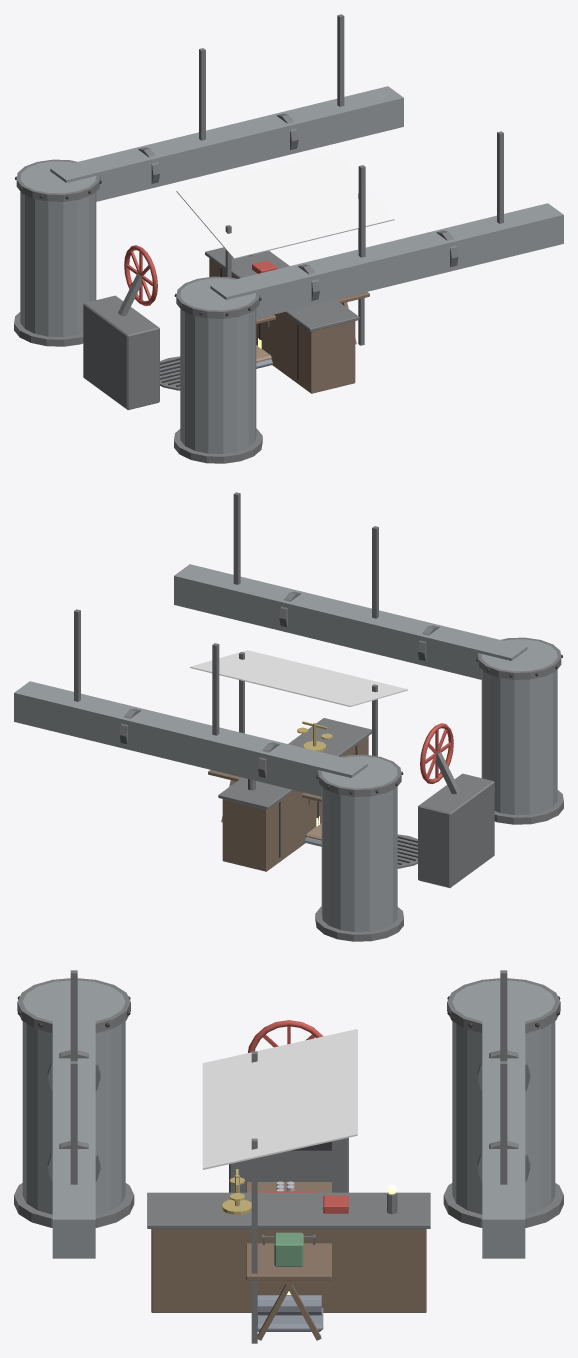
The model's file is under_market.glb.
The picture shows the model from 3 angles, top to bottom: view 1: azimuth 30°, elevation 25°; view 2: azimuth 150°, elevation 25°; view 3: azimuth 270°, elevation 25°; orthographic projection. The views are drawn at different scales.
Parts seen in each view (by area): view 1: up_pumps_mesh, um_stall_tarp_mesh, um_counter_mesh, um_stall_frame_mesh; view 2: up_pumps_mesh, um_counter_mesh, um_stall_tarp_mesh, um_stall_frame_mesh; view 3: up_pumps_mesh, um_counter_mesh, um_stall_tarp_mesh, um_stall_frame_mesh, uc_bedroll_mesh.
Part boxes in pixels (x1,y1,x2,y2): up_pumps_mesh: (14, 14, 563, 463); um_stall_tarp_mesh: (176, 151, 394, 259); um_counter_mesh: (205, 247, 359, 393); um_stall_frame_mesh: (225, 193, 369, 345); up_pumps_mesh: (14, 492, 563, 941); um_counter_mesh: (218, 718, 371, 871); um_stall_tarp_mesh: (190, 650, 407, 706); um_stall_frame_mesh: (208, 652, 377, 822); up_pumps_mesh: (14, 970, 563, 1258); um_counter_mesh: (147, 1169, 430, 1312); um_stall_tarp_mesh: (202, 1029, 357, 1169); um_stall_frame_mesh: (246, 1051, 331, 1343); uc_bedroll_mesh: (257, 1295, 323, 1331).
Size of the model in its own units: 6.8 by 4.21 by 6.4.
